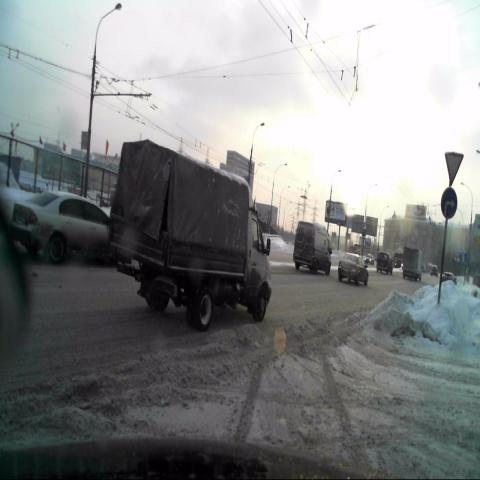4_1_2: (441, 186, 459, 219)
